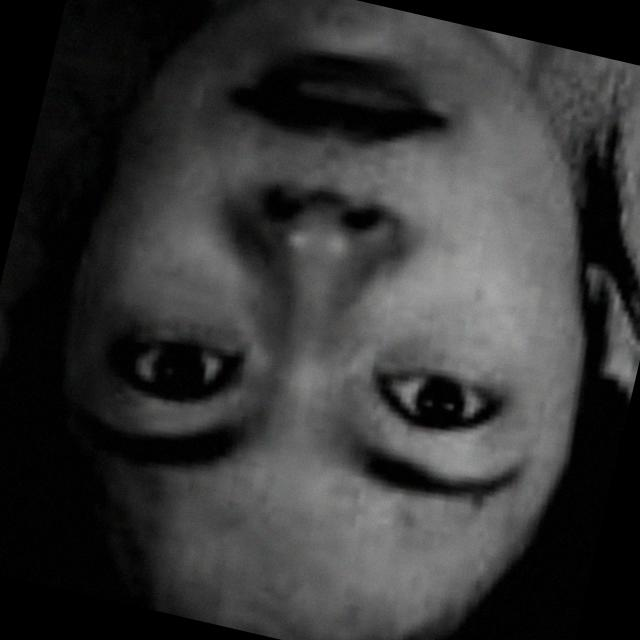fear: (3, 0, 634, 637)
